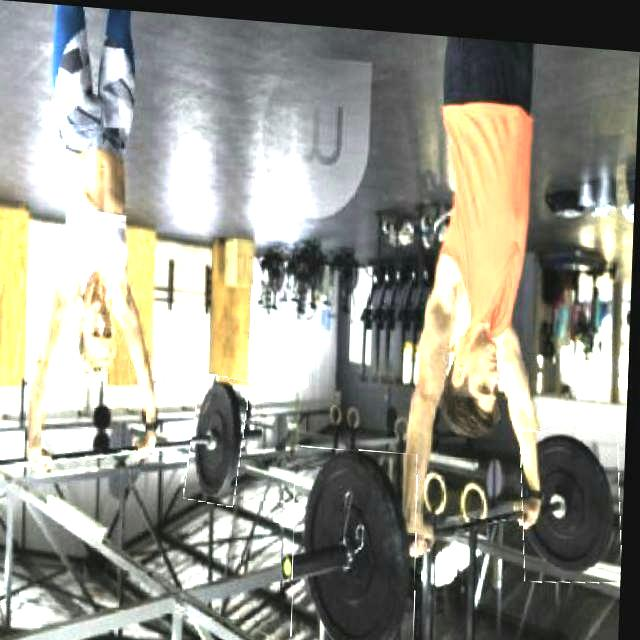barbell: (295, 440, 424, 640), (522, 417, 627, 577), (191, 370, 252, 504)
